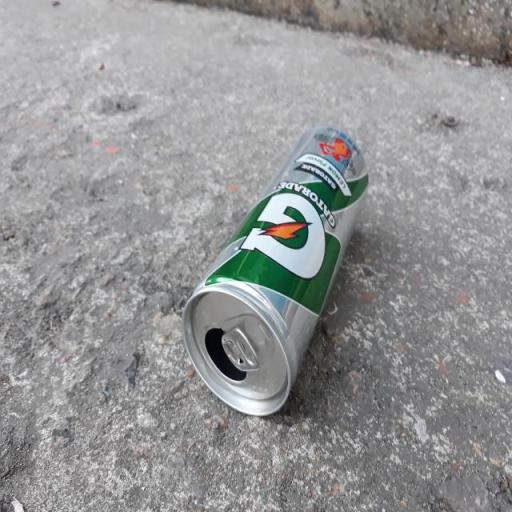metal: (174, 112, 374, 420)
